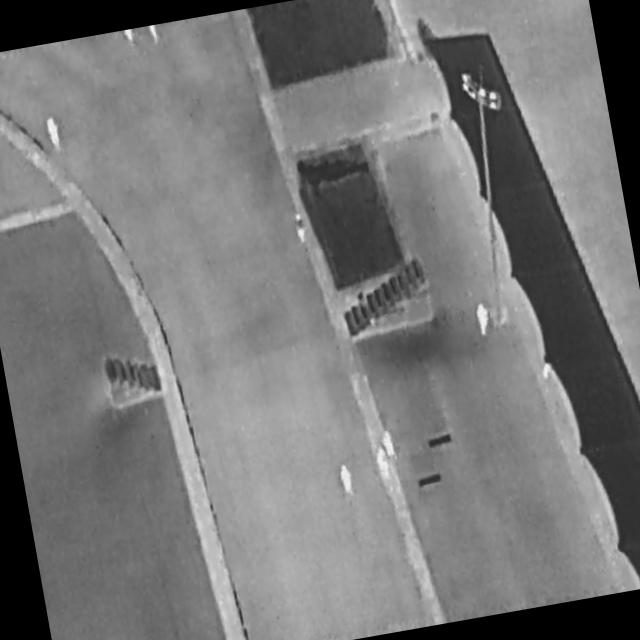person: (474, 301, 492, 337), (44, 117, 63, 148), (336, 463, 355, 494), (374, 449, 391, 478), (293, 213, 308, 243), (382, 431, 398, 457), (148, 25, 161, 42), (124, 29, 136, 43)
